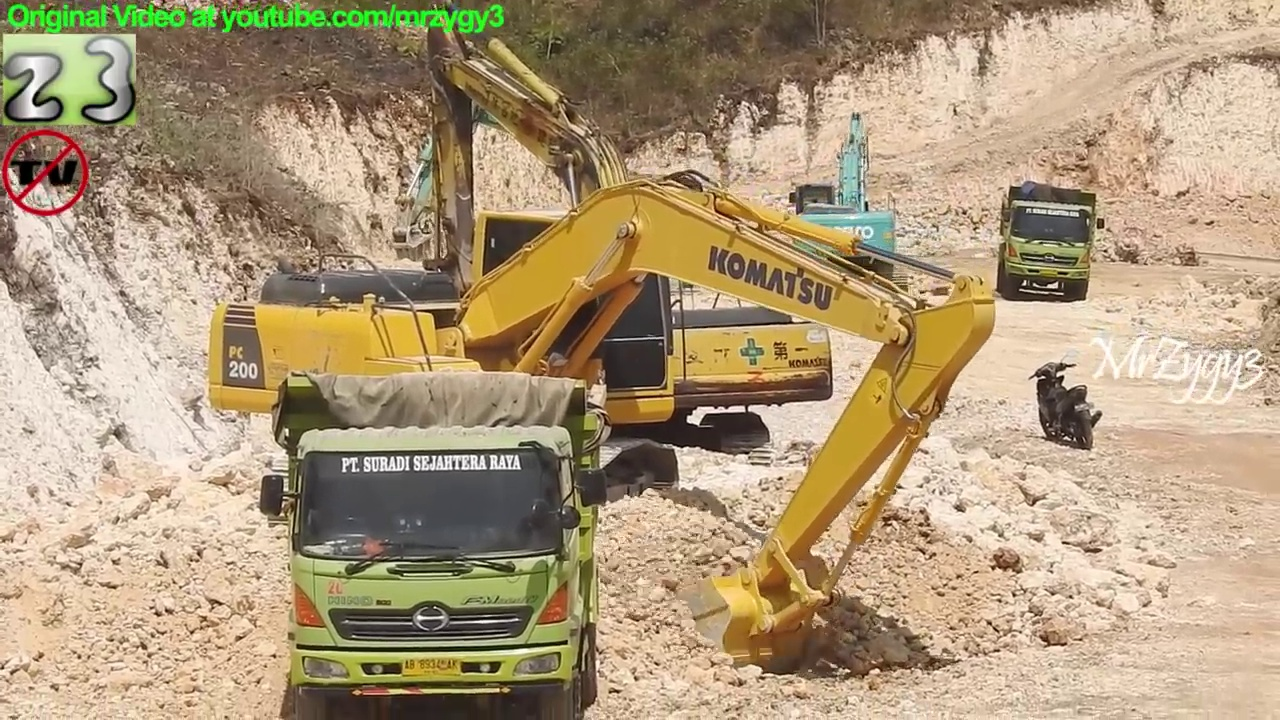excavator: (200, 167, 1003, 679), (389, 1, 841, 479), (384, 51, 740, 319), (774, 105, 916, 303)
truck: (257, 365, 616, 720), (992, 176, 1109, 306)
